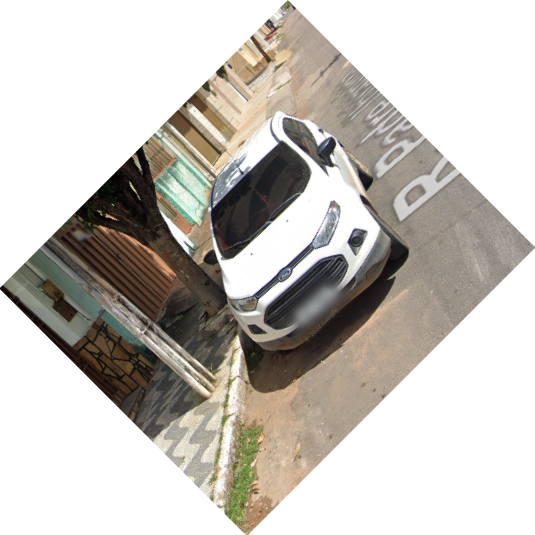car: (204, 107, 410, 384)
